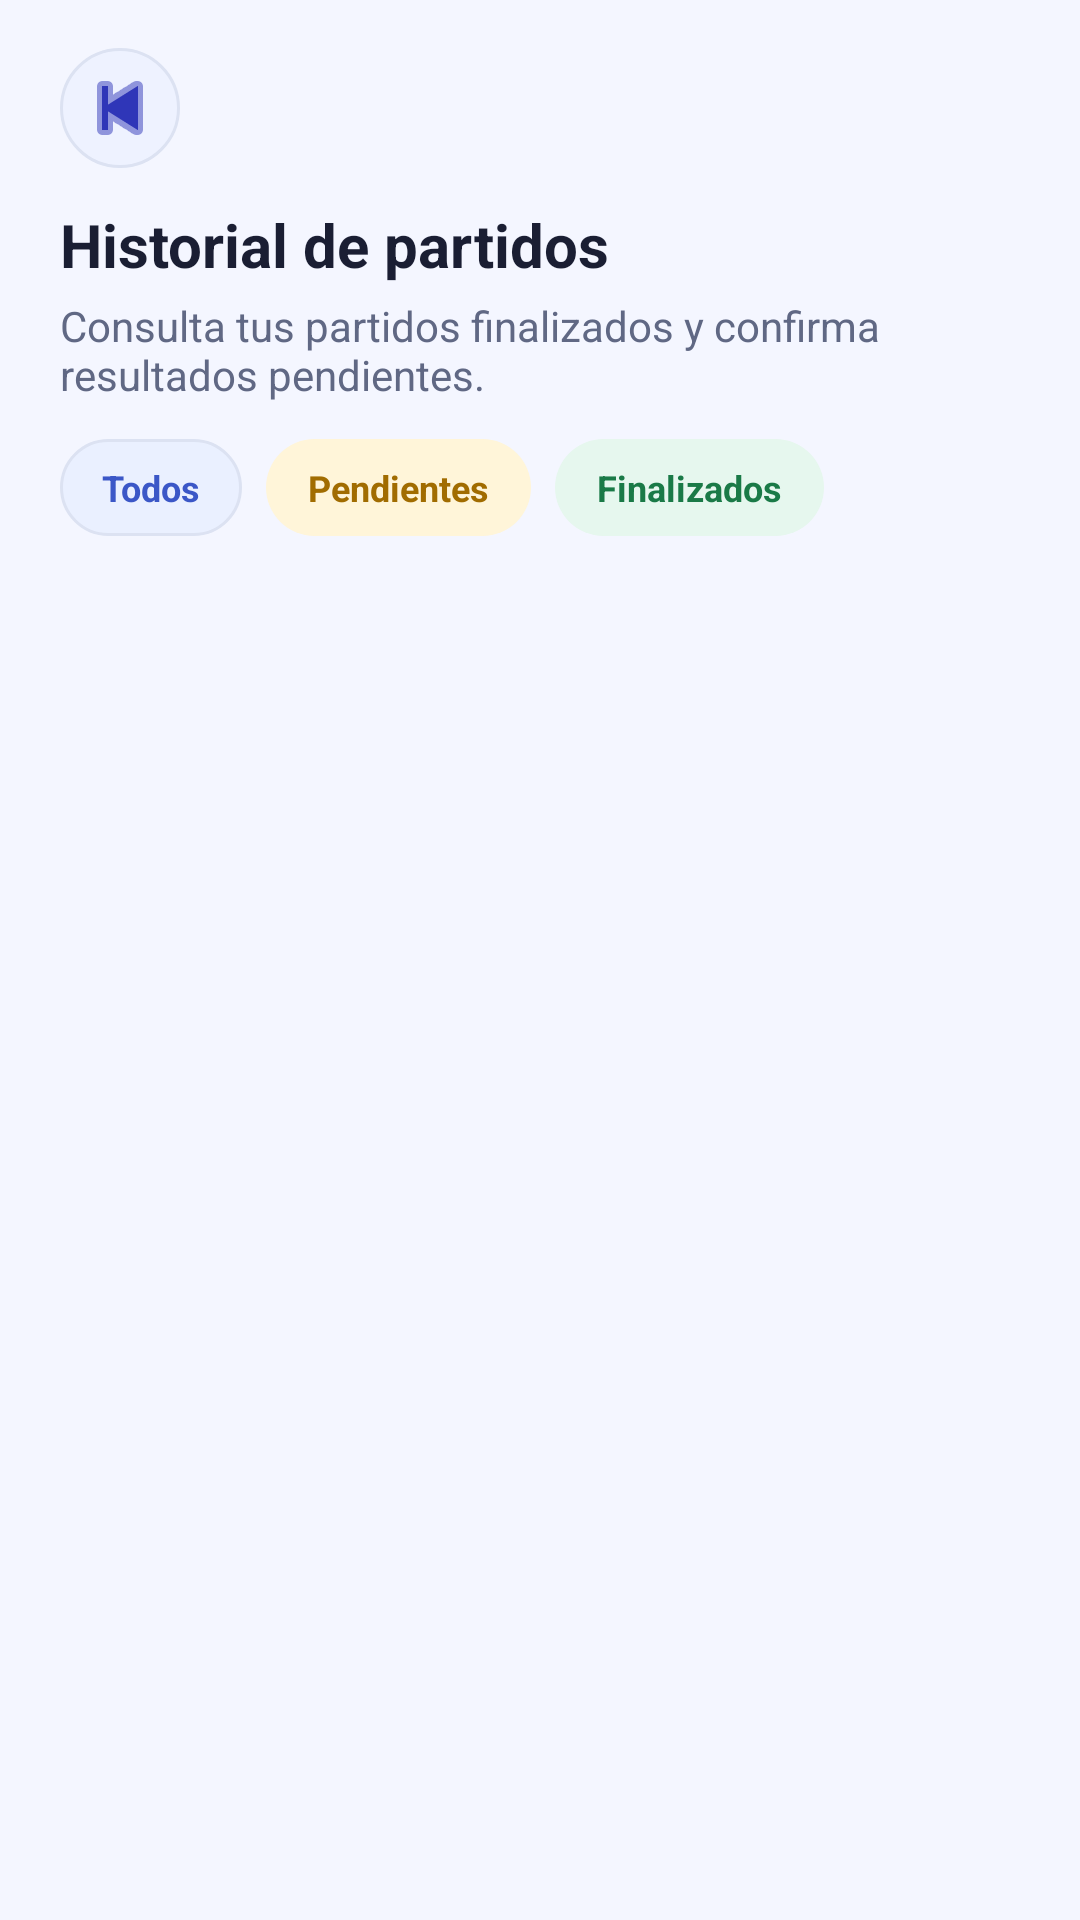

Point at icon controls on the screen. Image size 1080×1920, points as (x=x, y=y).
Volver: (x=120, y=108)
